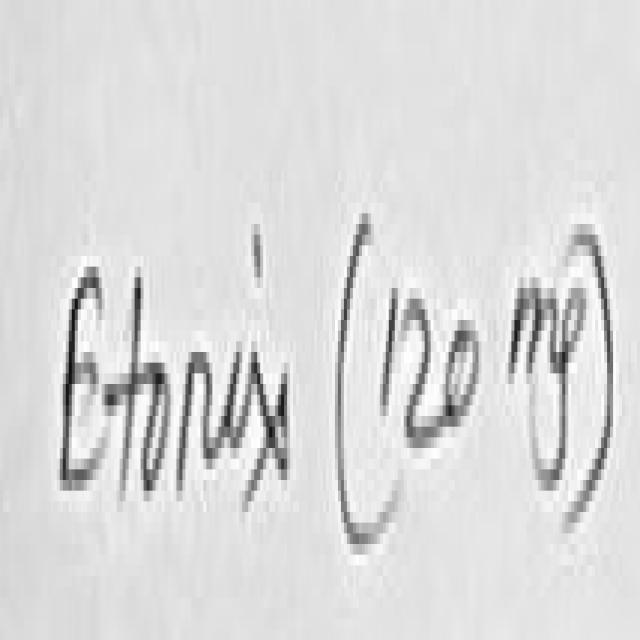0: (449, 320, 481, 427)
1: (383, 288, 401, 411)
2: (404, 299, 449, 448)
E: (60, 267, 105, 491)
g: (544, 288, 589, 491)
i: (218, 352, 245, 448), (254, 224, 263, 288)
m: (511, 288, 559, 373)
o: (144, 363, 170, 485)
r: (176, 352, 218, 491)
t: (105, 277, 147, 496)
x: (245, 352, 290, 507)
